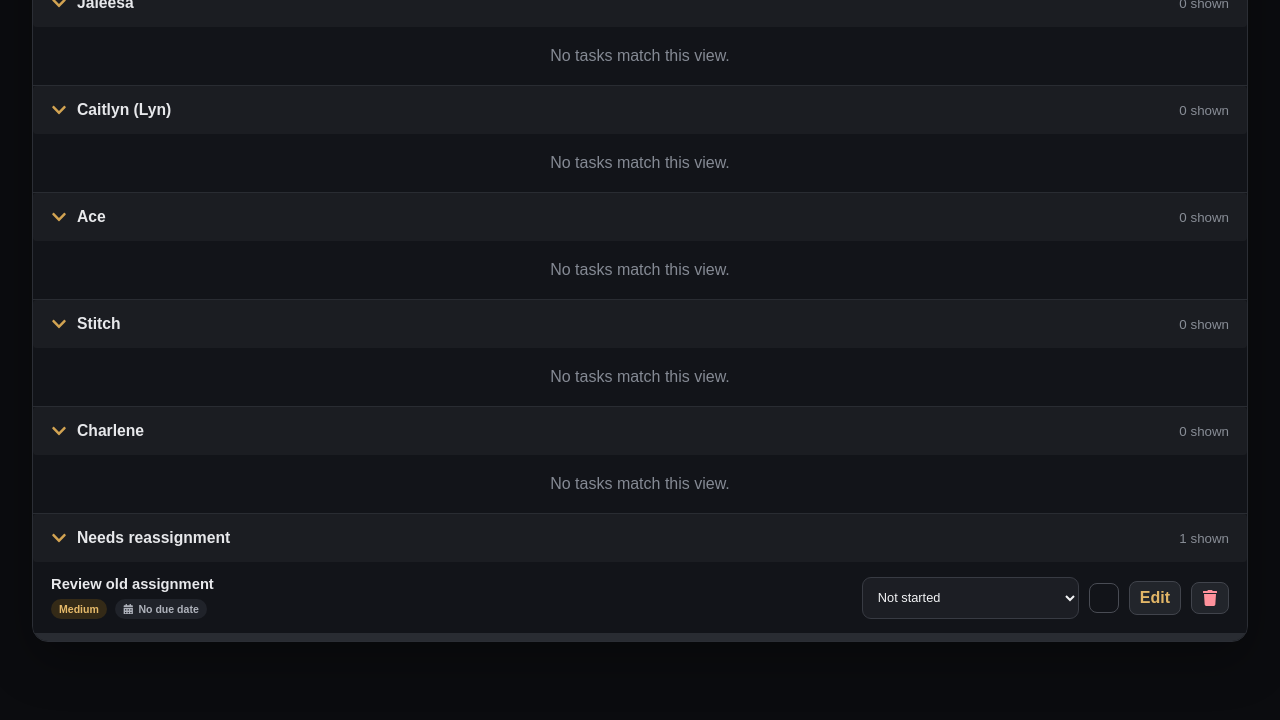
Test case: legacy owners can be reassigned to a teammate without losing the task
(page scrolled)
Click the button "Edit" at point(1155, 598), box [1129,580,1181,614]
(page scrolled)
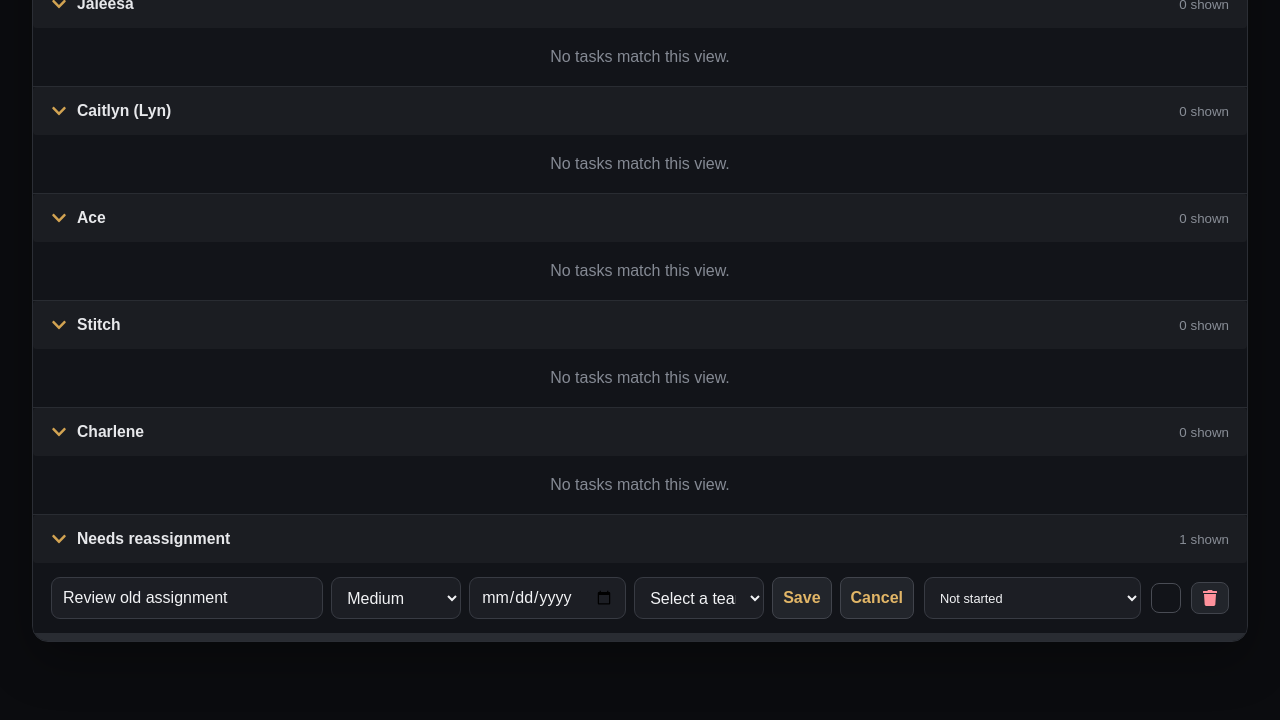
Select "Caitlyn (Lyn)" in the 2nd dropdown at point(699, 598), box [634,577,764,619]
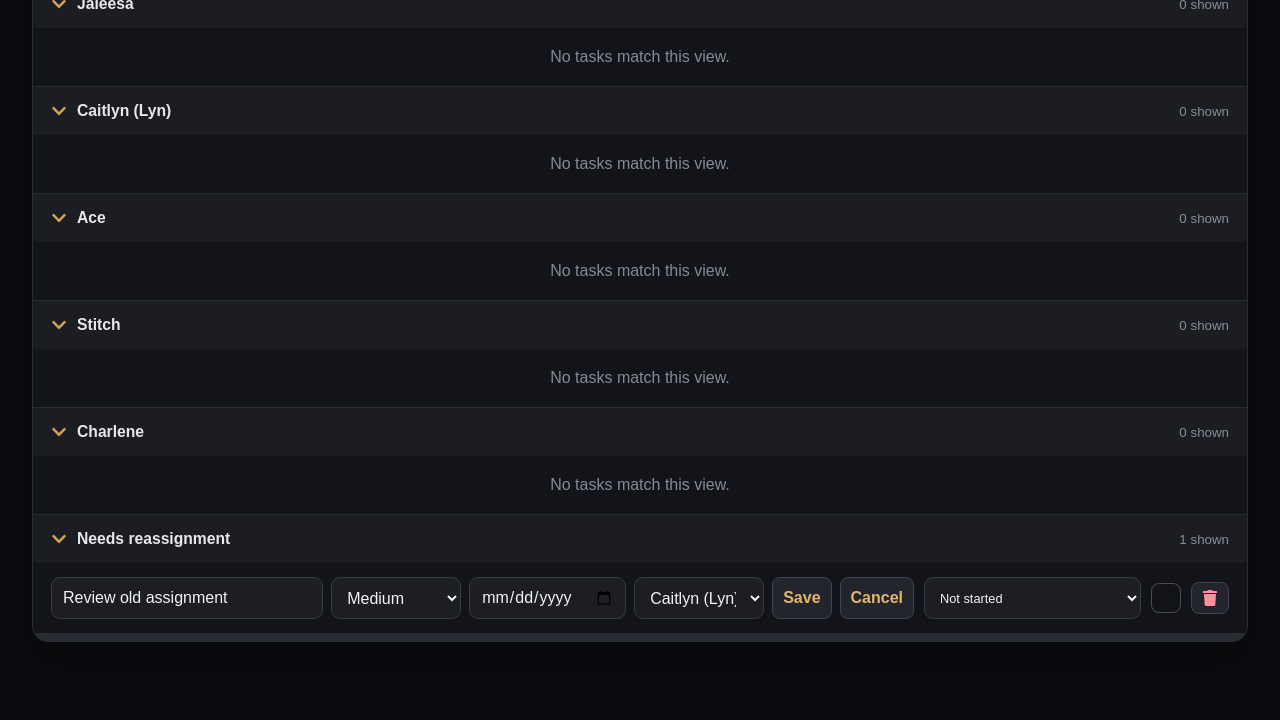
Click the button "Save" at point(802, 598), box [772,577,832,619]
(page scrolled)
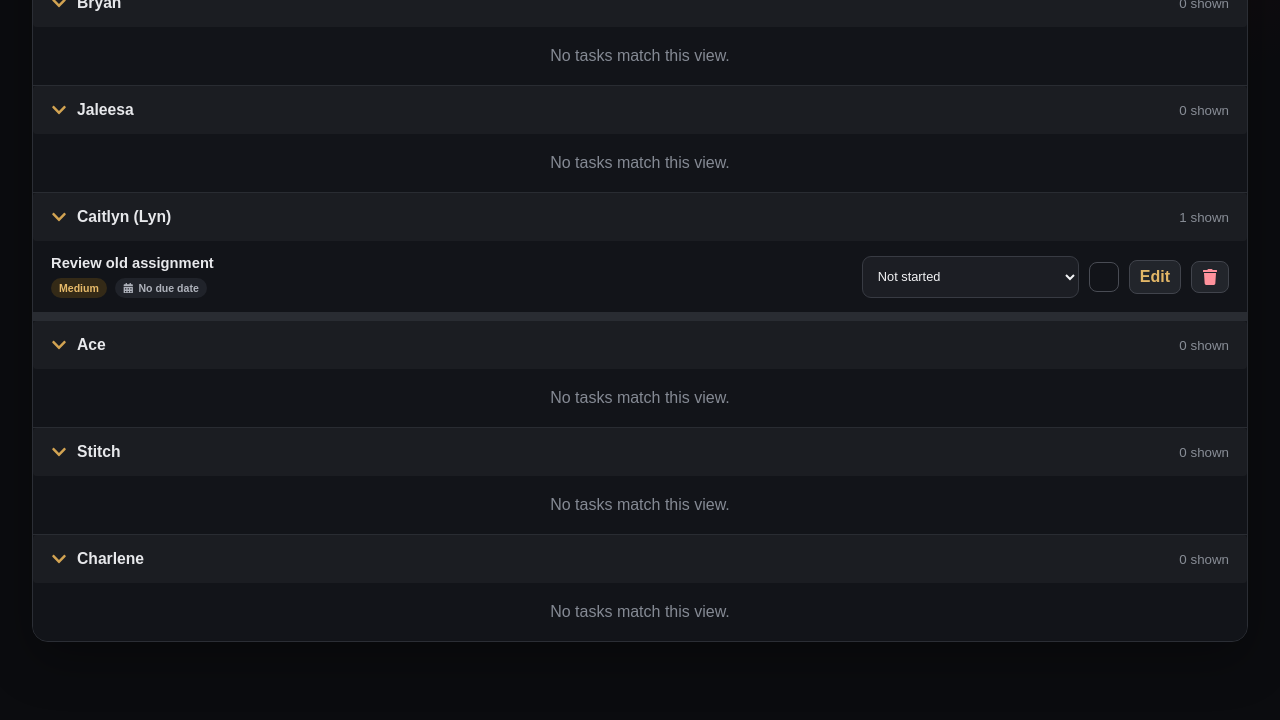
Check: the text "Review old assignment" is shown, box [51,255,214,271]
